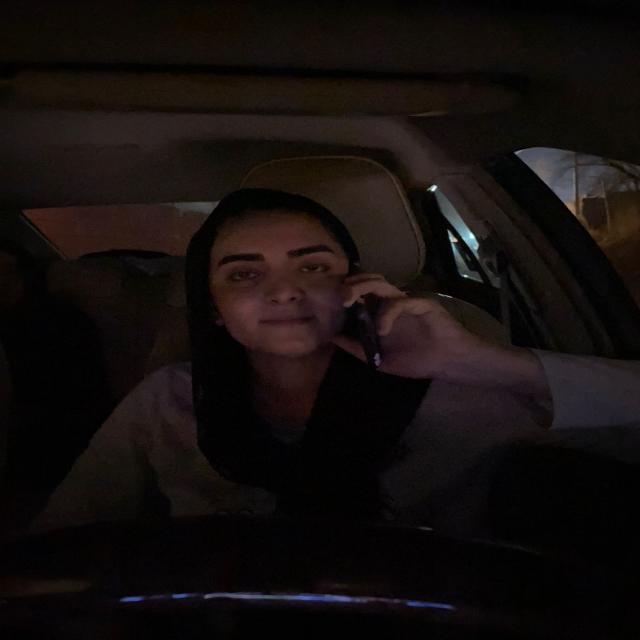mobile: (348, 288, 393, 380)
person: (174, 183, 390, 373)
